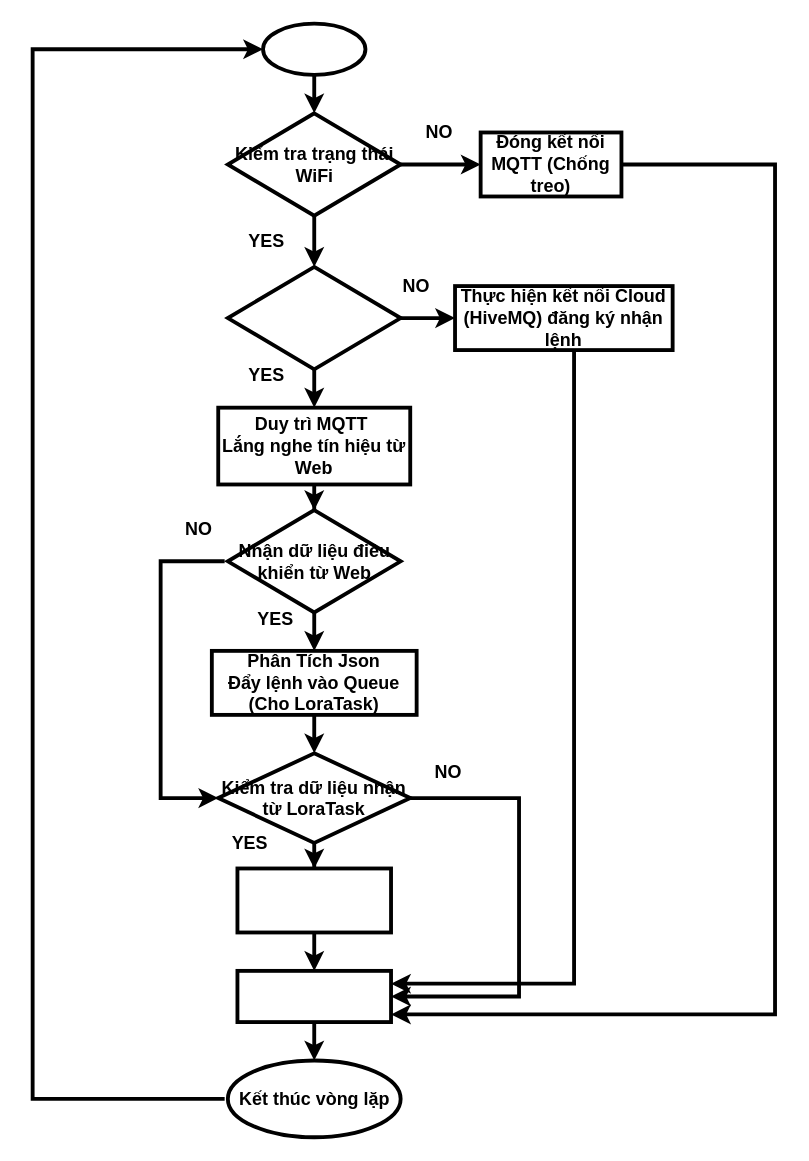
Some shapes in this 809 by 1161 pixel diagram are drawn without their labels. The shapes that lost their labels are listed below. From the top down, each one's box as (x1, y1, x2, y2) in pixels, then its label:
(260, 21, 367, 76): Bắt đầu
(225, 264, 402, 371): Kiểm tra trạng thái MQTT
(235, 866, 392, 934): Tạo chuỗi Json Publish đưa lên Web
(235, 968, 392, 1023): OsDelay
